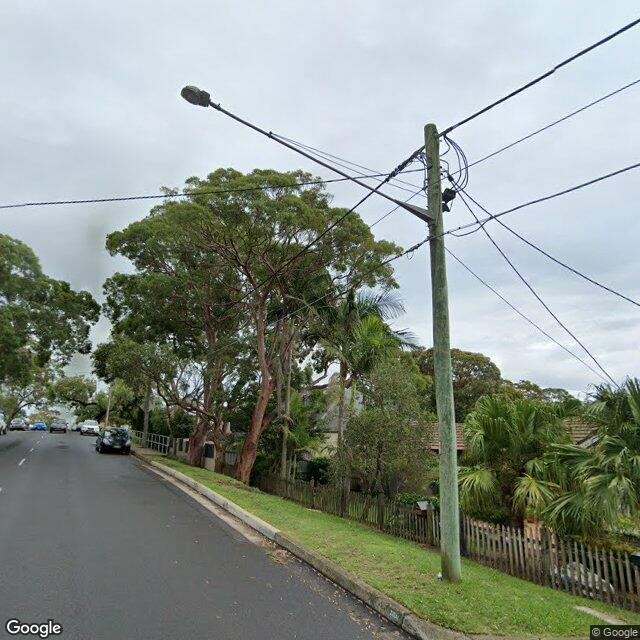streetlight: (181, 86, 434, 222)
timber-pole: (422, 121, 464, 583)
